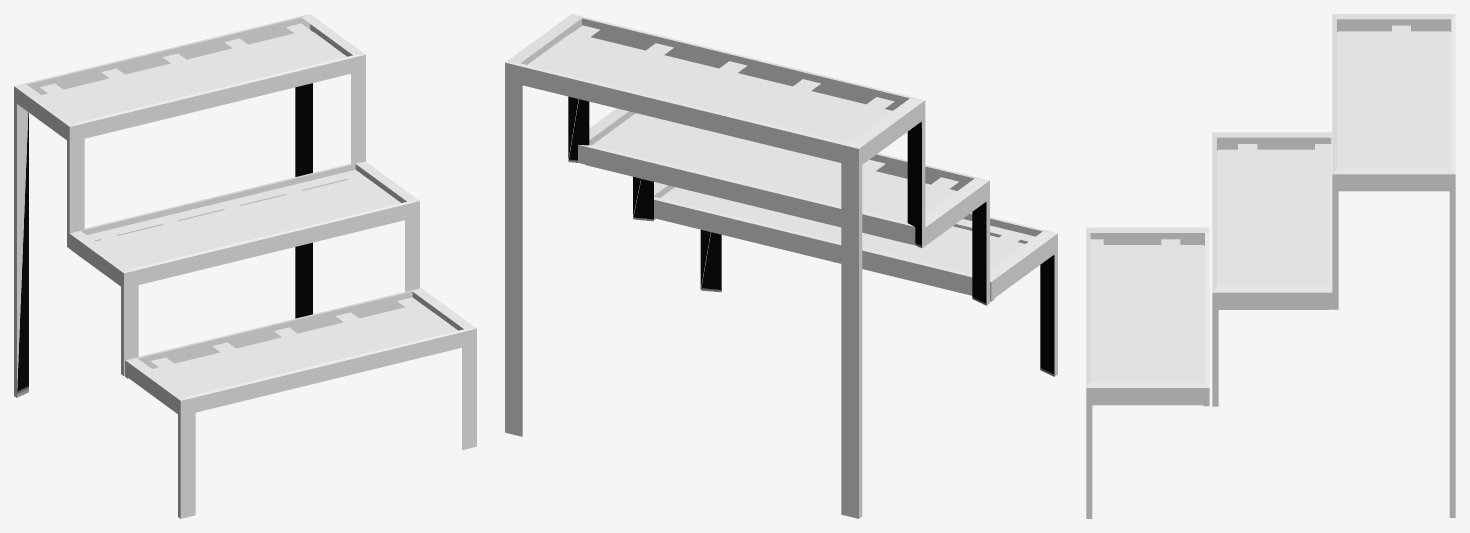
File: stair.fbx
The picture shows the model from 3 angles, left to right: view 1: azimuth 30°, elevation 25°; view 2: azimuth 150°, elevation 25°; view 3: azimuth 270°, elevation 25°; orthographic projection. The views are drawn at different scales.
Visible parts, largest first — view 1: Object001; view 2: Object001; view 3: Object001.
Part boxes in pixels (x1,y1,x2,y2): Object001: (14,14,476,518); Object001: (505,14,1057,518); Object001: (1086,14,1455,518).
Size of the model in its own units: 20 by 20.09 by 19.49.
Materials: 3 (2 with a texture image).
